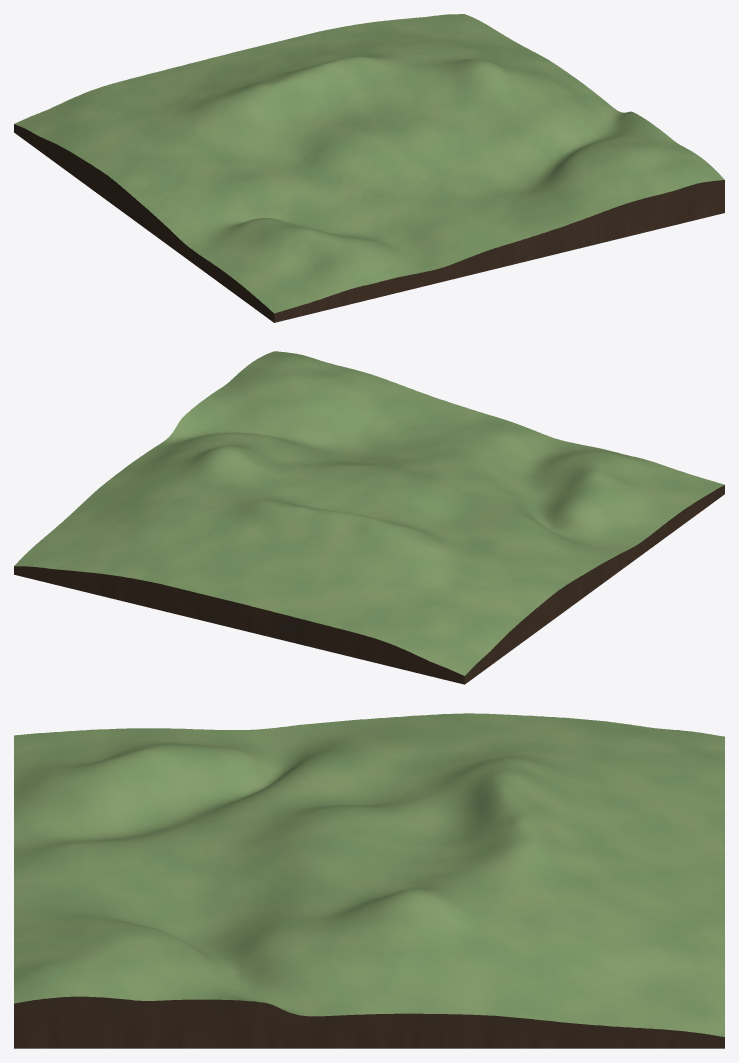
File: terrain-2.gltf
3 renders of one model, top to bottom at view 1: azimuth 30°, elevation 25°; view 2: azimuth 150°, elevation 25°; view 3: azimuth 270°, elevation 25°, orthographic. The views are drawn at different scales.
Visible parts, largest first — view 1: Terrain - single closed solid; view 2: Terrain - single closed solid; view 3: Terrain - single closed solid.
Boxes of the visible parts, x1,y1,x2,y2 form: Terrain - single closed solid: (14, 14, 724, 322); Terrain - single closed solid: (14, 351, 724, 684); Terrain - single closed solid: (14, 713, 724, 1048).
Size of the model in its own units: 100 by 13.92 by 100.
